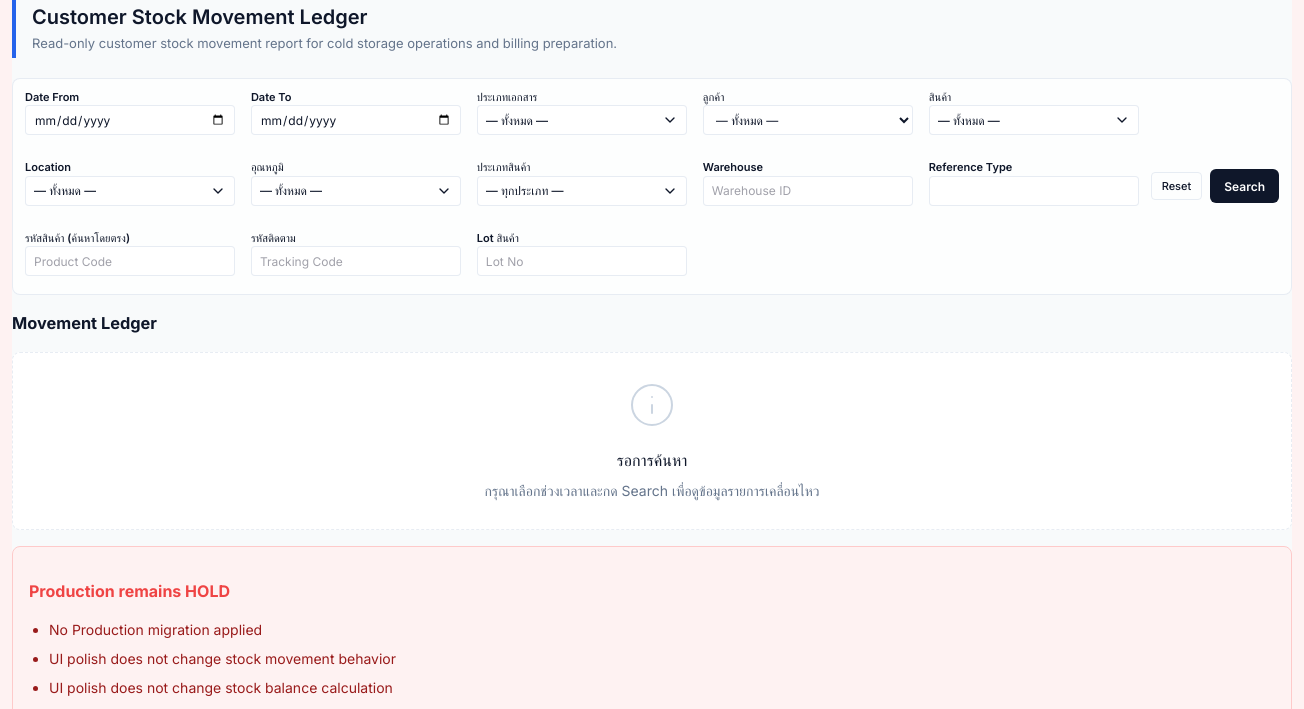
it: 20B operational report preview UI integration › shows preview and print actions on movement ledger report page after search
In the date field labelled "Date From": (130, 120) [25,105,235,135], type "2026-06-01"
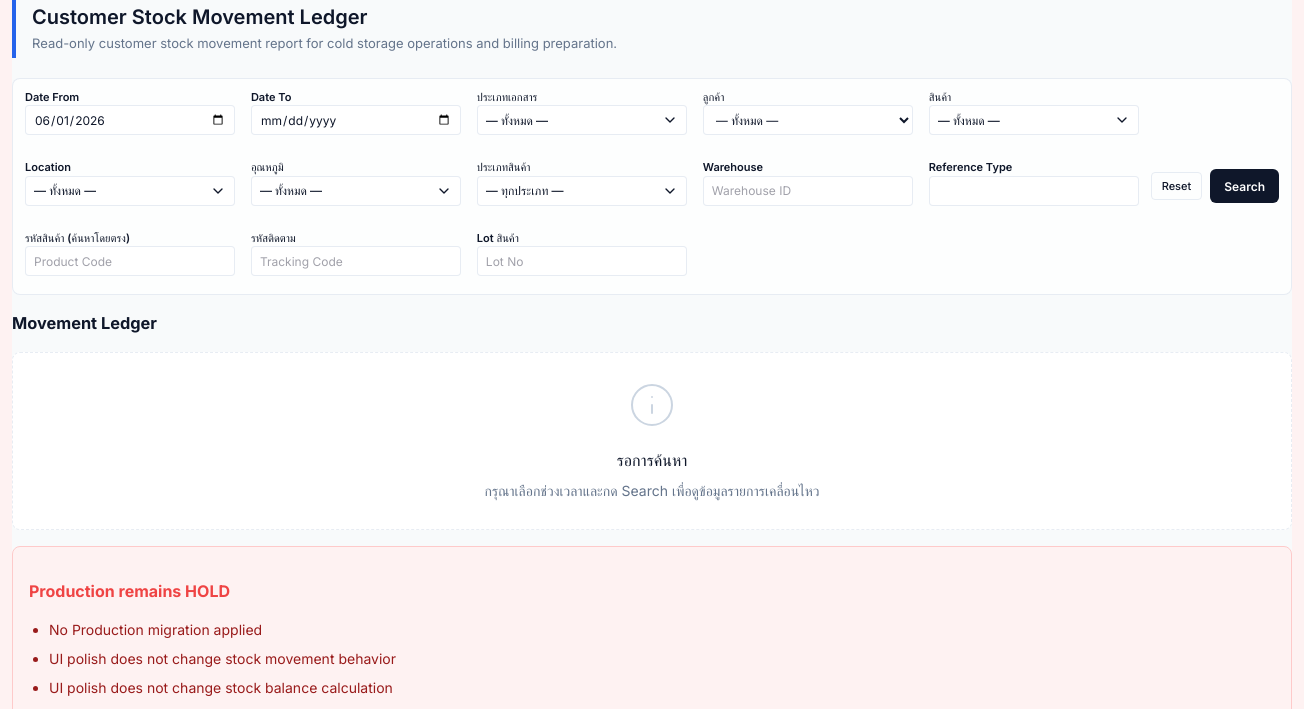
In the date field labelled "Date To": (356, 120) [251,105,461,135], type "2026-06-30"
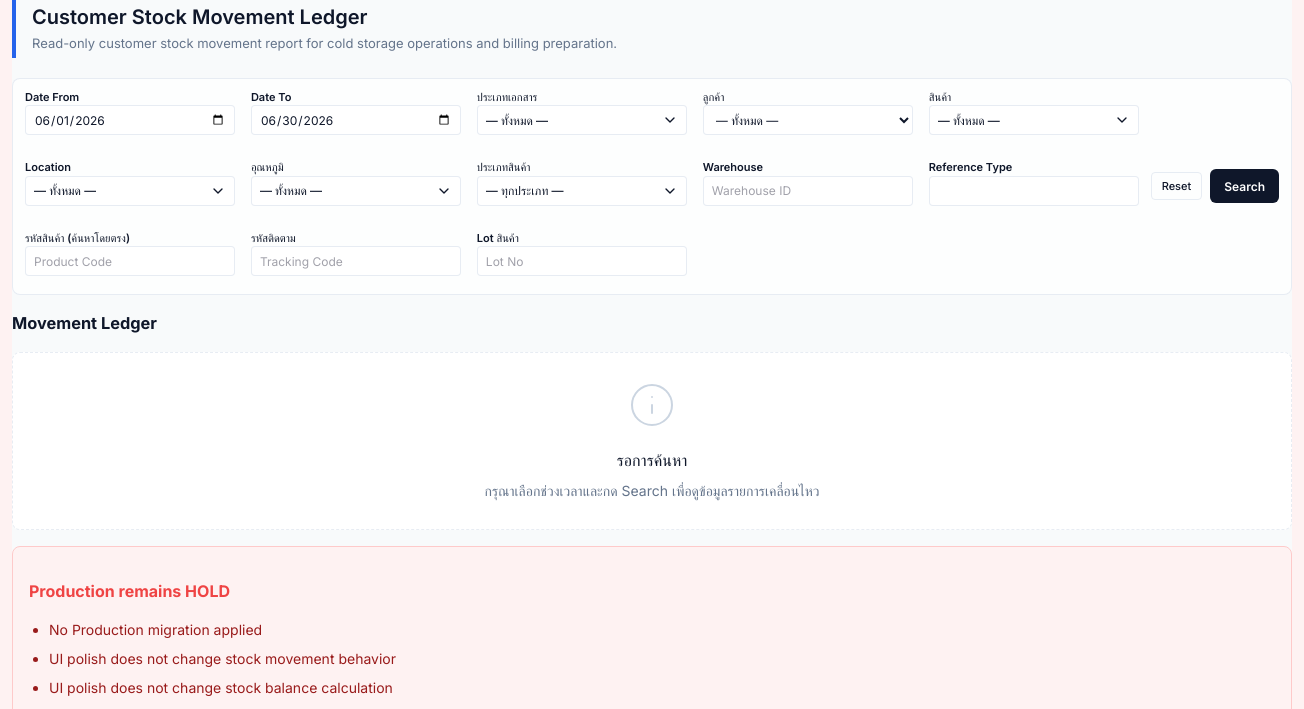
Click the button "Search": (1245, 186) [1210,169,1279,203]
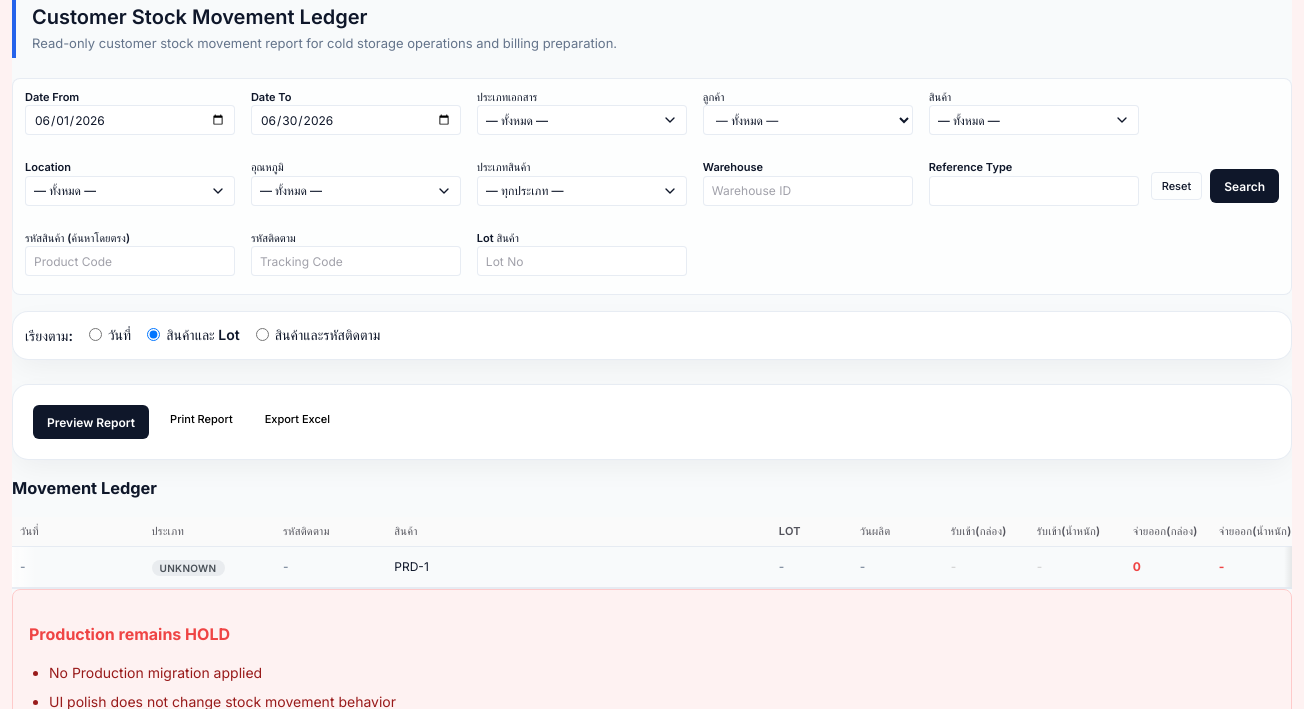
Expected: the button with test id "operational-report-preview-action" is shown, [33,405,149,439]
Expected: the button with test id "operational-report-print-action" is shown, [159,405,244,433]
